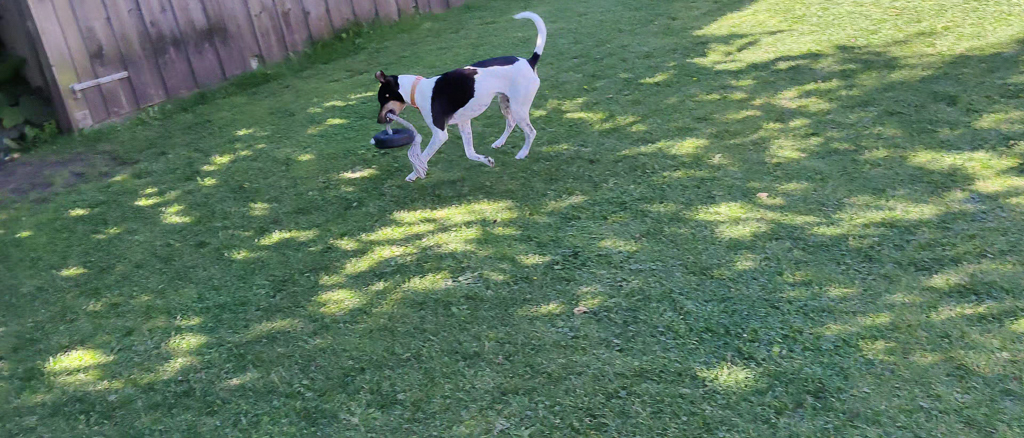Dog: (367, 5, 554, 190)
